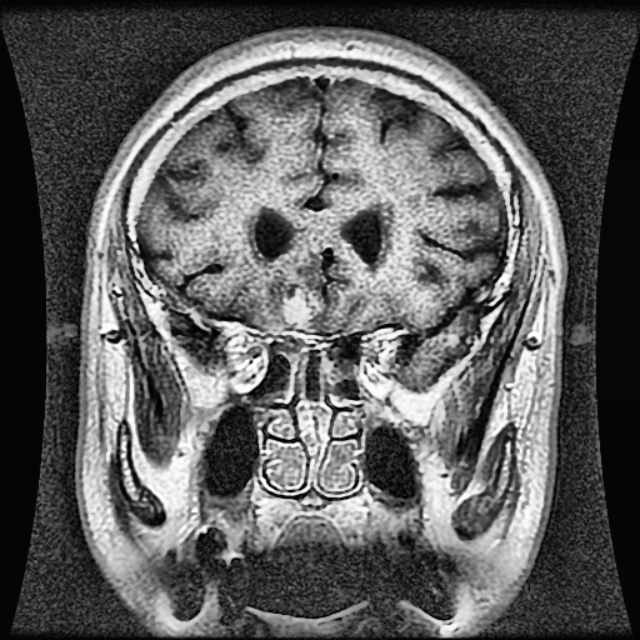Pituitary: (280, 285, 314, 330)
